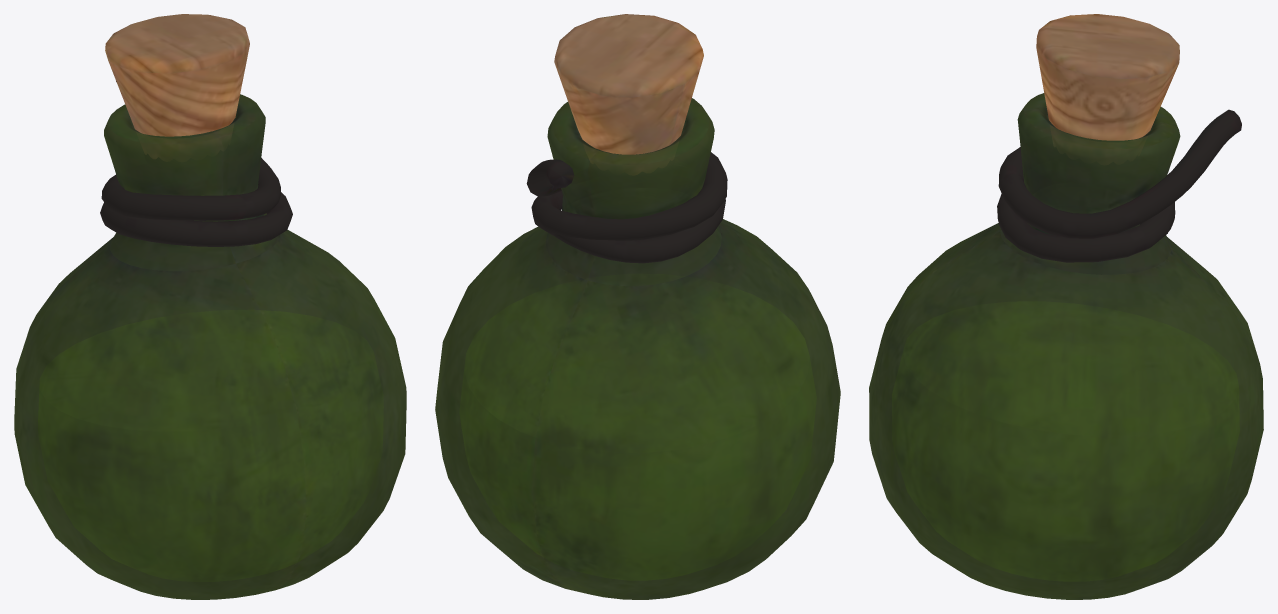
Rendered from potion.glb.
3 renders of one model, left to right at view 1: azimuth 30°, elevation 25°; view 2: azimuth 150°, elevation 25°; view 3: azimuth 270°, elevation 25°, orthographic. The views are drawn at different scales.
Visible parts, largest first — view 1: Character.001; view 2: Character.001; view 3: Character.001.
Boxes of the visible parts, x1,y1,x2,y2 form: Character.001: [14, 14, 406, 599]; Character.001: [435, 14, 840, 599]; Character.001: [869, 14, 1263, 599].
Bounding box in the file's own units: 0.1238 × 0.1841 × 0.1231.
1 material, 1 textured.
